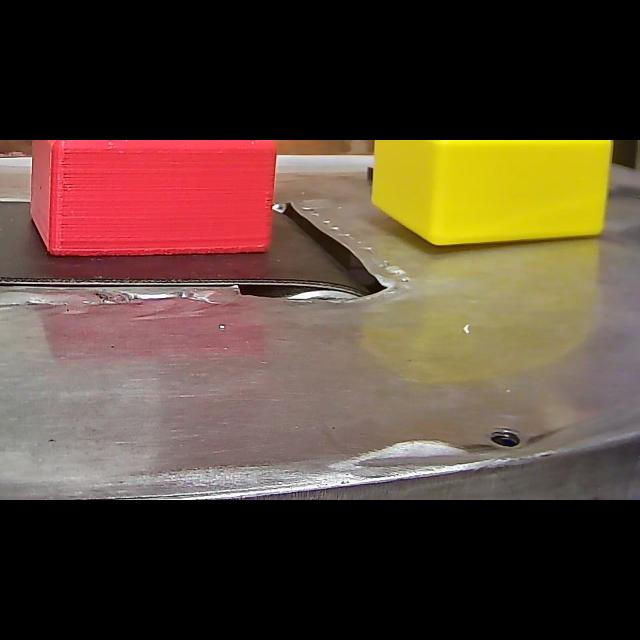redBox: (22, 140, 280, 264)
yellowBox: (364, 140, 618, 258)
